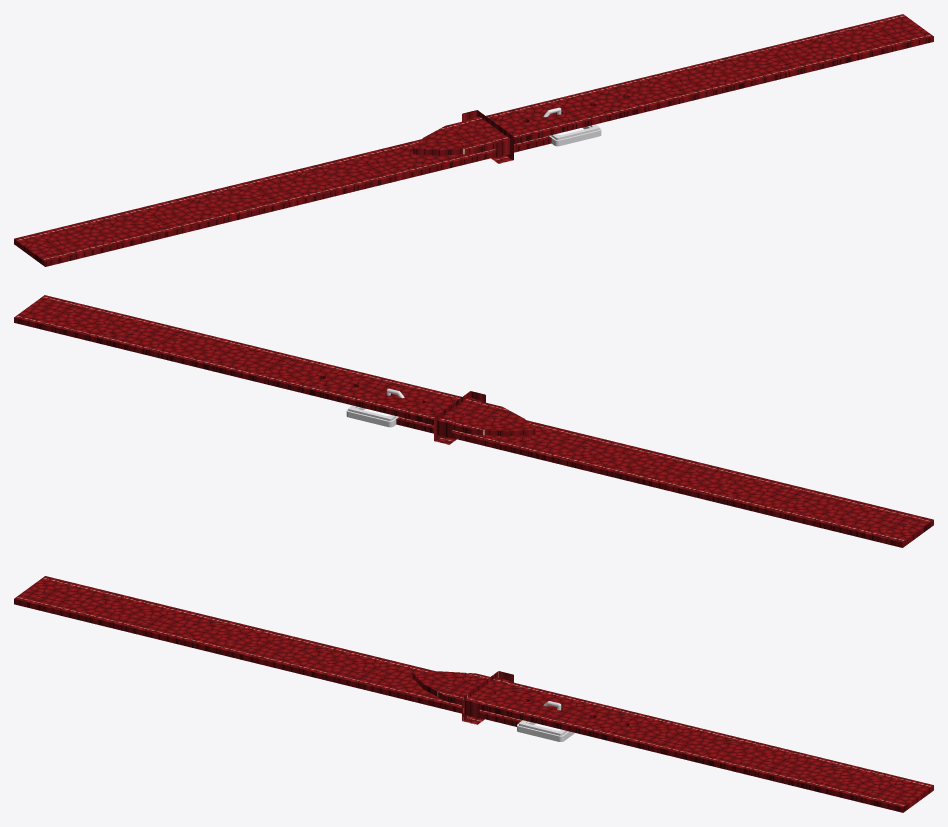
The model's file is veto-belt-red.glb.
3 renders of one model, top to bottom at view 1: azimuth 30°, elevation 25°; view 2: azimuth 150°, elevation 25°; view 3: azimuth 330°, elevation 25°, orthographic.
Visible parts, largest first — view 1: strap_right, strap_left, keeper, buckle_frame; view 2: strap_right, strap_left, keeper, buckle_frame; view 3: strap_right, strap_left, keeper, buckle_frame.
Boxes of the visible parts, x1,y1,x2,y2 form: strap_right: (412,14,933,155); strap_left: (14,136,551,266); keeper: (462,110,513,163); buckle_frame: (549,124,601,146); strap_right: (14,295,535,436); strap_left: (396,417,933,547); keeper: (434,391,485,444); buckle_frame: (346,405,398,427); strap_right: (412,671,933,812); strap_left: (14,576,522,726); keeper: (462,671,513,724); buckle_frame: (517,720,574,741).
Bounding box in the file's own units: 66.8 × 1.74 × 5.3.
Materials: 2 (1 with a texture image).
